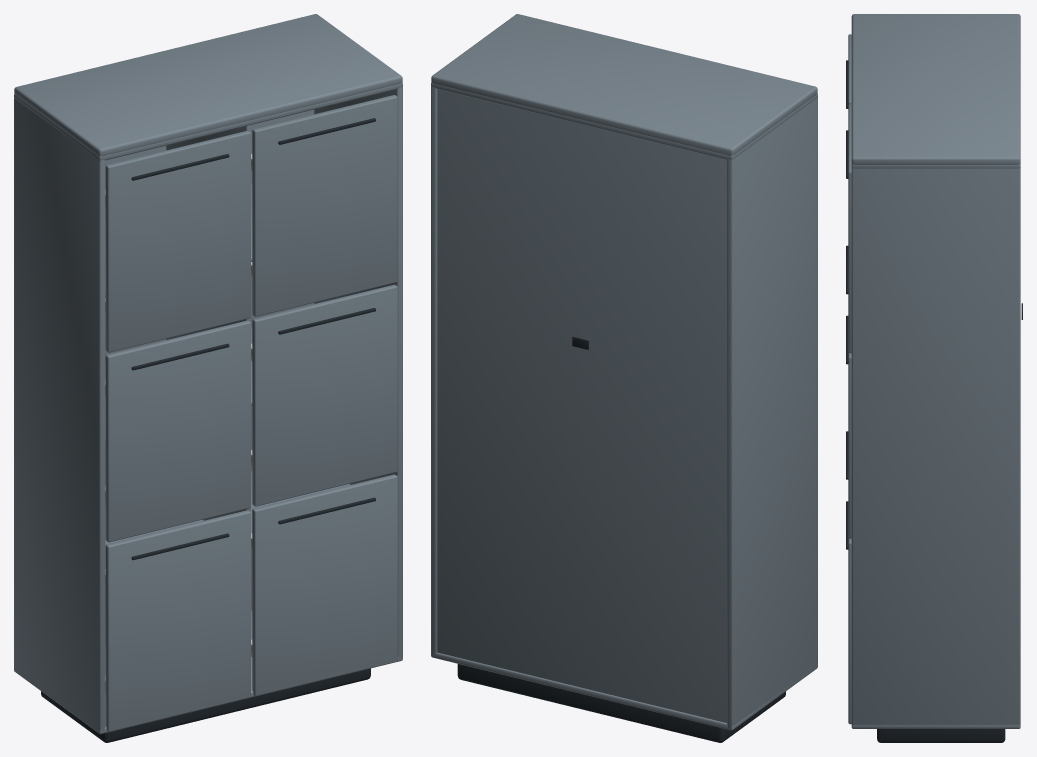
File: double-door-closet.glb
The picture shows the model from 3 angles, left to right: view 1: azimuth 30°, elevation 25°; view 2: azimuth 150°, elevation 25°; view 3: azimuth 270°, elevation 25°; orthographic projection. The views are drawn at different scales.
Parts seen in each view (by area): view 1: double-door-closet; view 2: double-door-closet; view 3: double-door-closet.
Part boxes in pixels (x1,y1,x2,y2): double-door-closet: [14, 14, 402, 742]; double-door-closet: [431, 14, 817, 742]; double-door-closet: [846, 14, 1022, 742].
Size of the model in its own units: 1.2 by 2.3 by 0.62.
